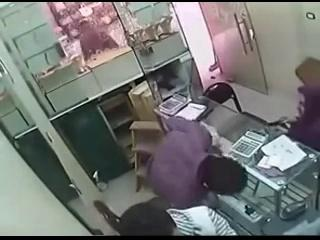Normal: (146, 118, 248, 210), (202, 82, 244, 113), (230, 128, 268, 158), (280, 200, 308, 221)
